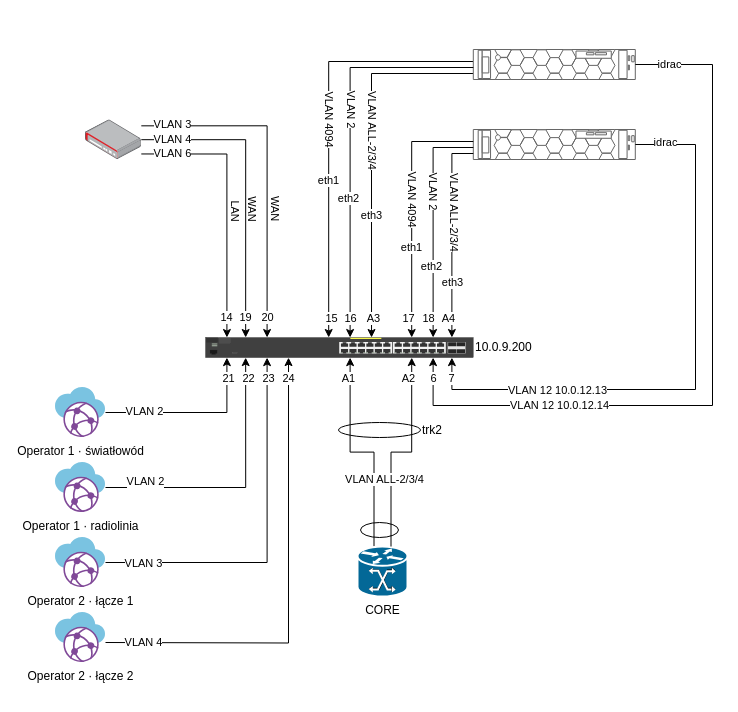
Some shapes in this 738 by 712 pixel diagram are drawn without their labels. Here are the shapes that lost their labels. From the top down, the centre of each, then its label:
At [553,64]: "gw-01 10.0.6.4".
At [113,139]: "Fortigate 10.0.6.5".
At [553,144]: "gw-02 10.0.6.3".
At [379,530]: "trk4".
